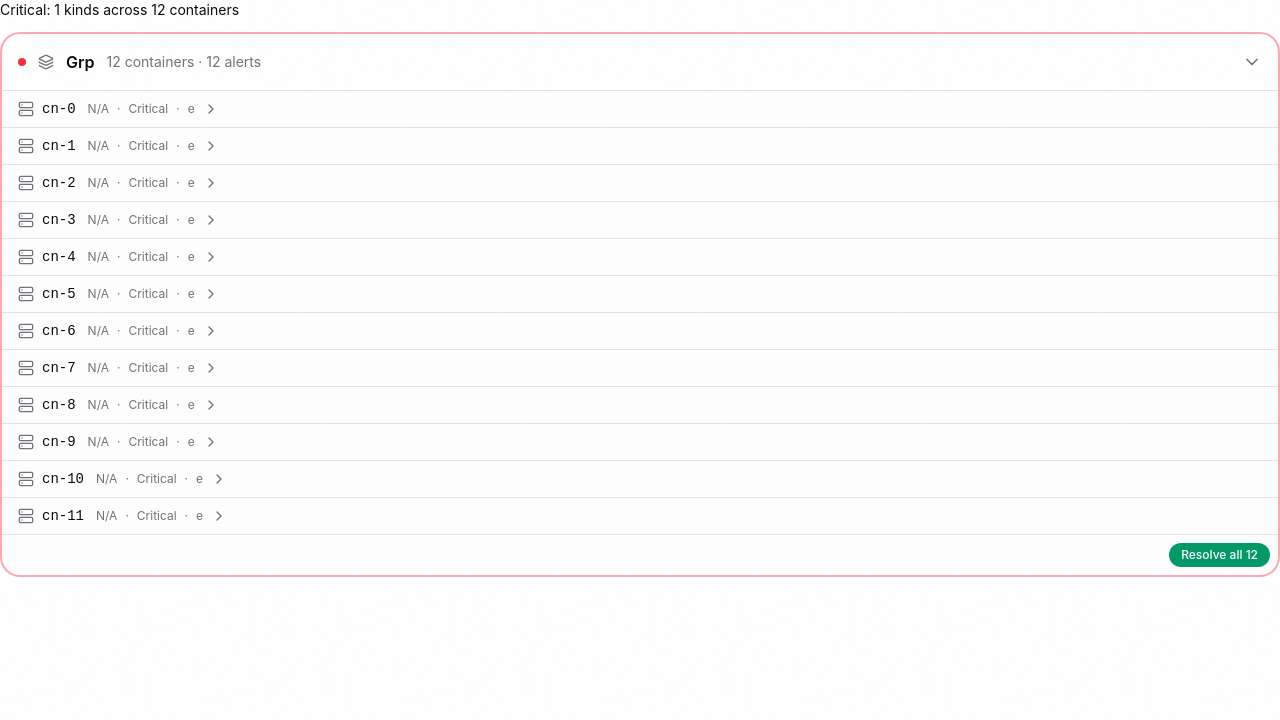
Test: IncidentGroupsView — resolve › partial failure >5 collapses into a banner with Retry failed only
Click the button "Resolve all 12" at (1220, 555), box [1169,543,1270,567]
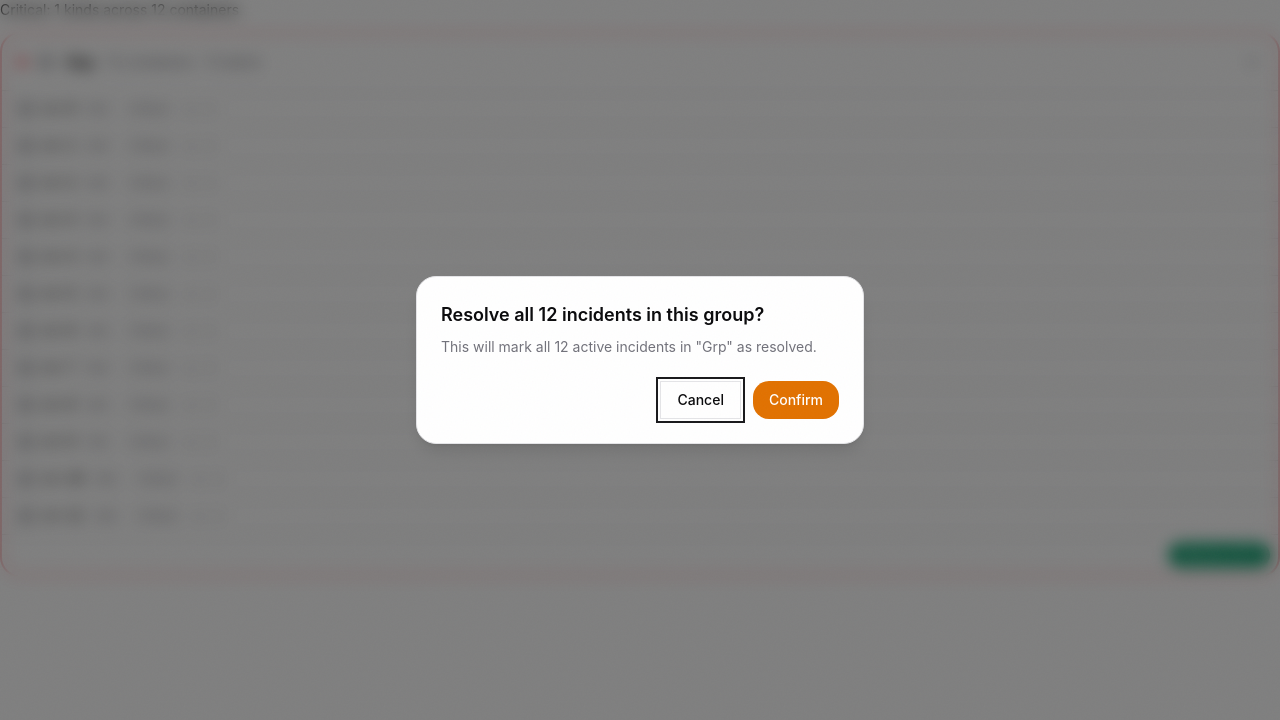
Click the button "Confirm" at (796, 400), box [753,381,839,419]
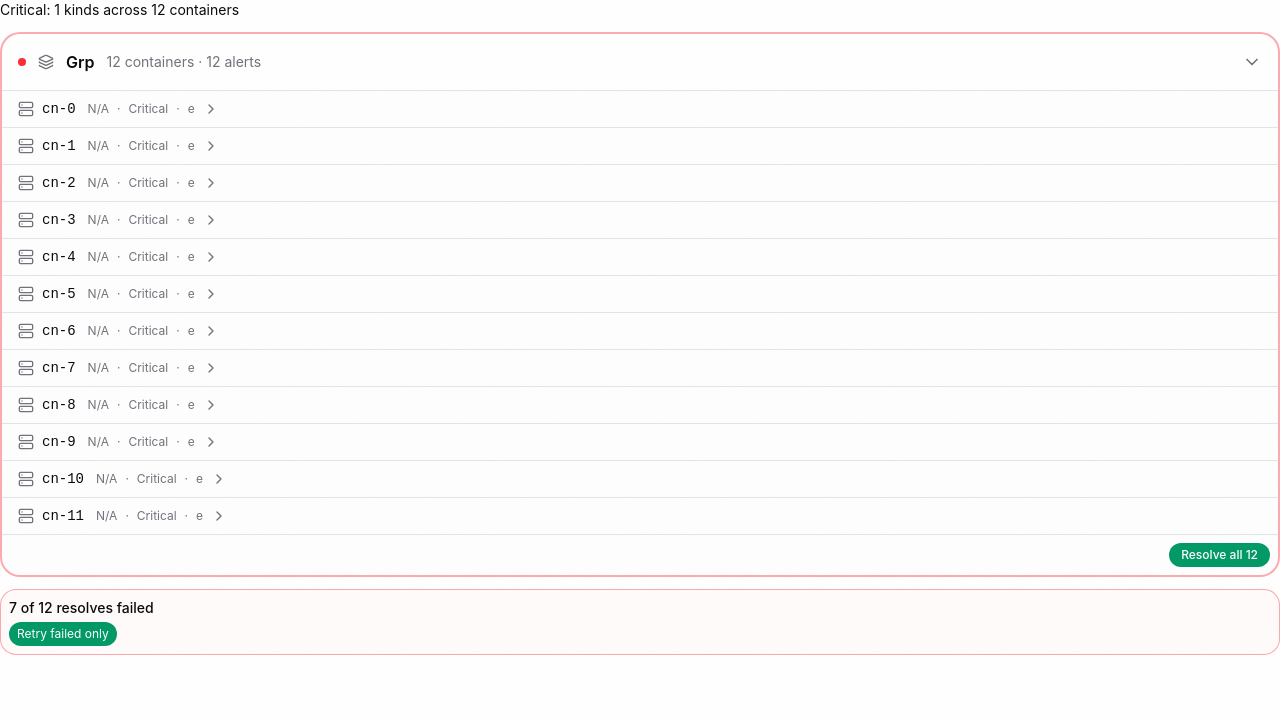
Now the text "7 of 12 resolves failed" is shown, box [9,599,154,616]
Now the button "Retry failed only" is shown, box [9,622,117,646]
